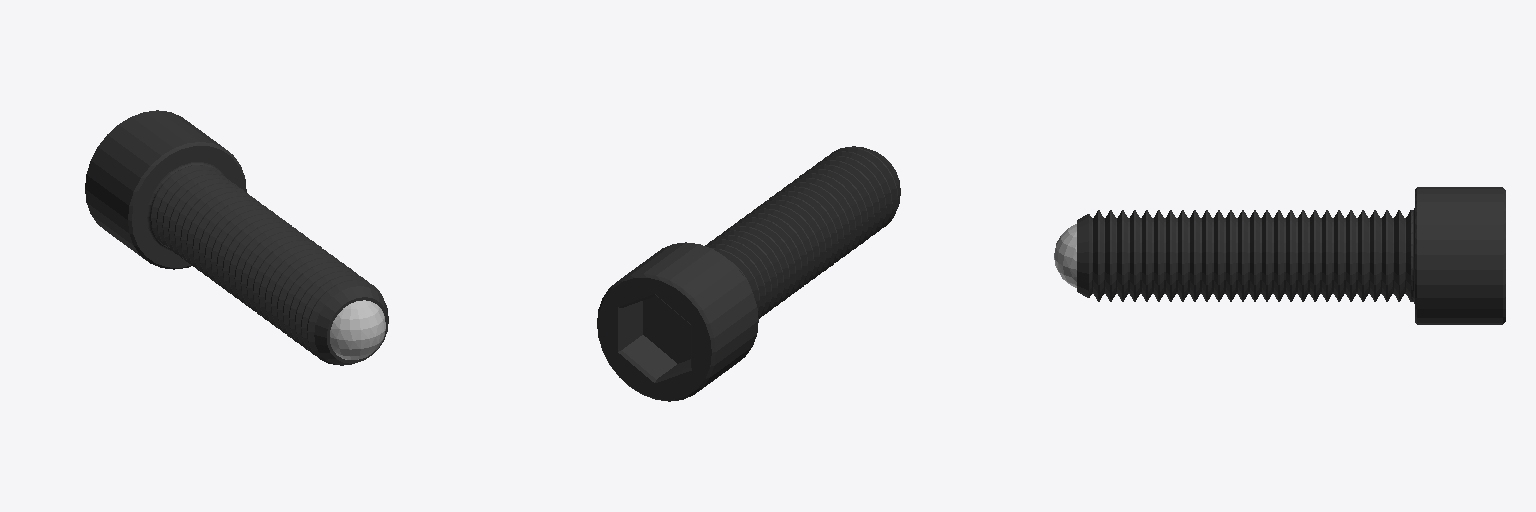
Rendered from bcr-16x60.obj.
3 renders of one model, left to right at view 1: azimuth 30°, elevation 25°; view 2: azimuth 150°, elevation 25°; view 3: azimuth 270°, elevation 25°, orthographic.
Visible parts, largest first — view 1: bcr-16x60_1; view 2: bcr-16x60_1; view 3: bcr-16x60_1.
Boxes of the visible parts, x1,y1,x2,y2 form: bcr-16x60_1: [85, 110, 388, 365]; bcr-16x60_1: [597, 146, 900, 401]; bcr-16x60_1: [1054, 187, 1505, 324].
Bounding box in the file's own units: 24 × 24 × 79.